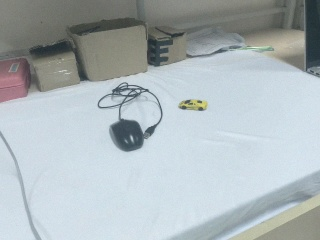box: (66, 18, 149, 82), (29, 38, 80, 92), (147, 26, 187, 67)
mouse: (109, 119, 144, 152)
toy_car: (178, 98, 208, 111)
